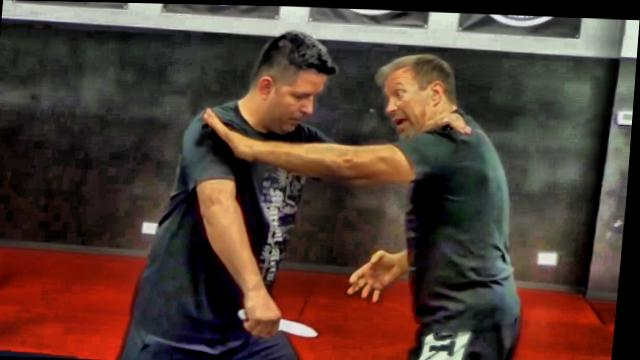knife: (237, 302, 330, 339)
